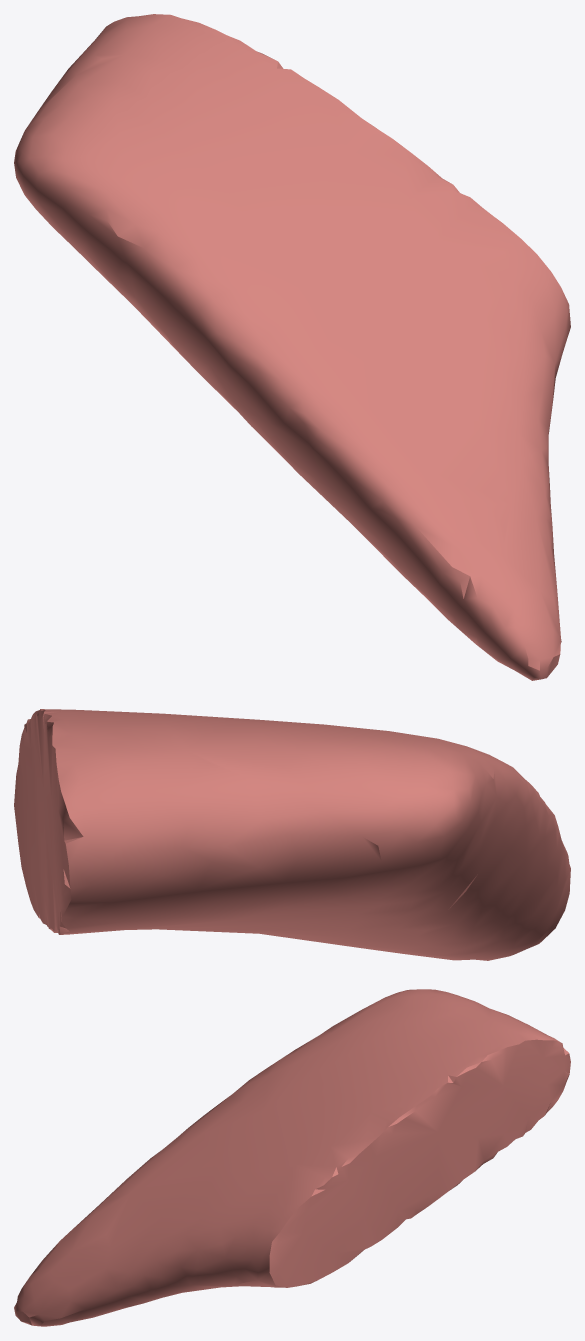
File: fma54145-n_mm2218.glb
3 views of the same model, one above another, from view 1: azimuth 30°, elevation 25°; view 2: azimuth 150°, elevation 25°; view 3: azimuth 270°, elevation 25° (orthographic). The views are drawn at different scales.
Visible parts, largest first — view 1: FMA54145-N_MM2218; view 2: FMA54145-N_MM2218; view 3: FMA54145-N_MM2218.
Part boxes in pixels (bbox=[...]): FMA54145-N_MM2218: bbox=[14, 14, 570, 680]; FMA54145-N_MM2218: bbox=[14, 709, 570, 960]; FMA54145-N_MM2218: bbox=[14, 989, 570, 1326].
Bounding box in the file's own units: 0.00456 × 0.00397 × 0.0072.
